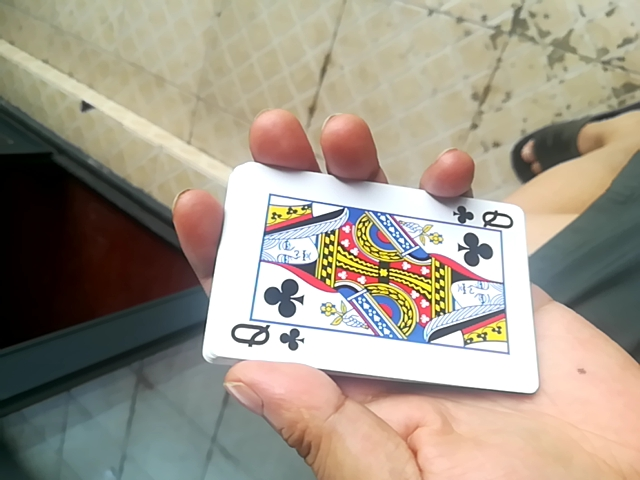mh q: (208, 162, 543, 401)
